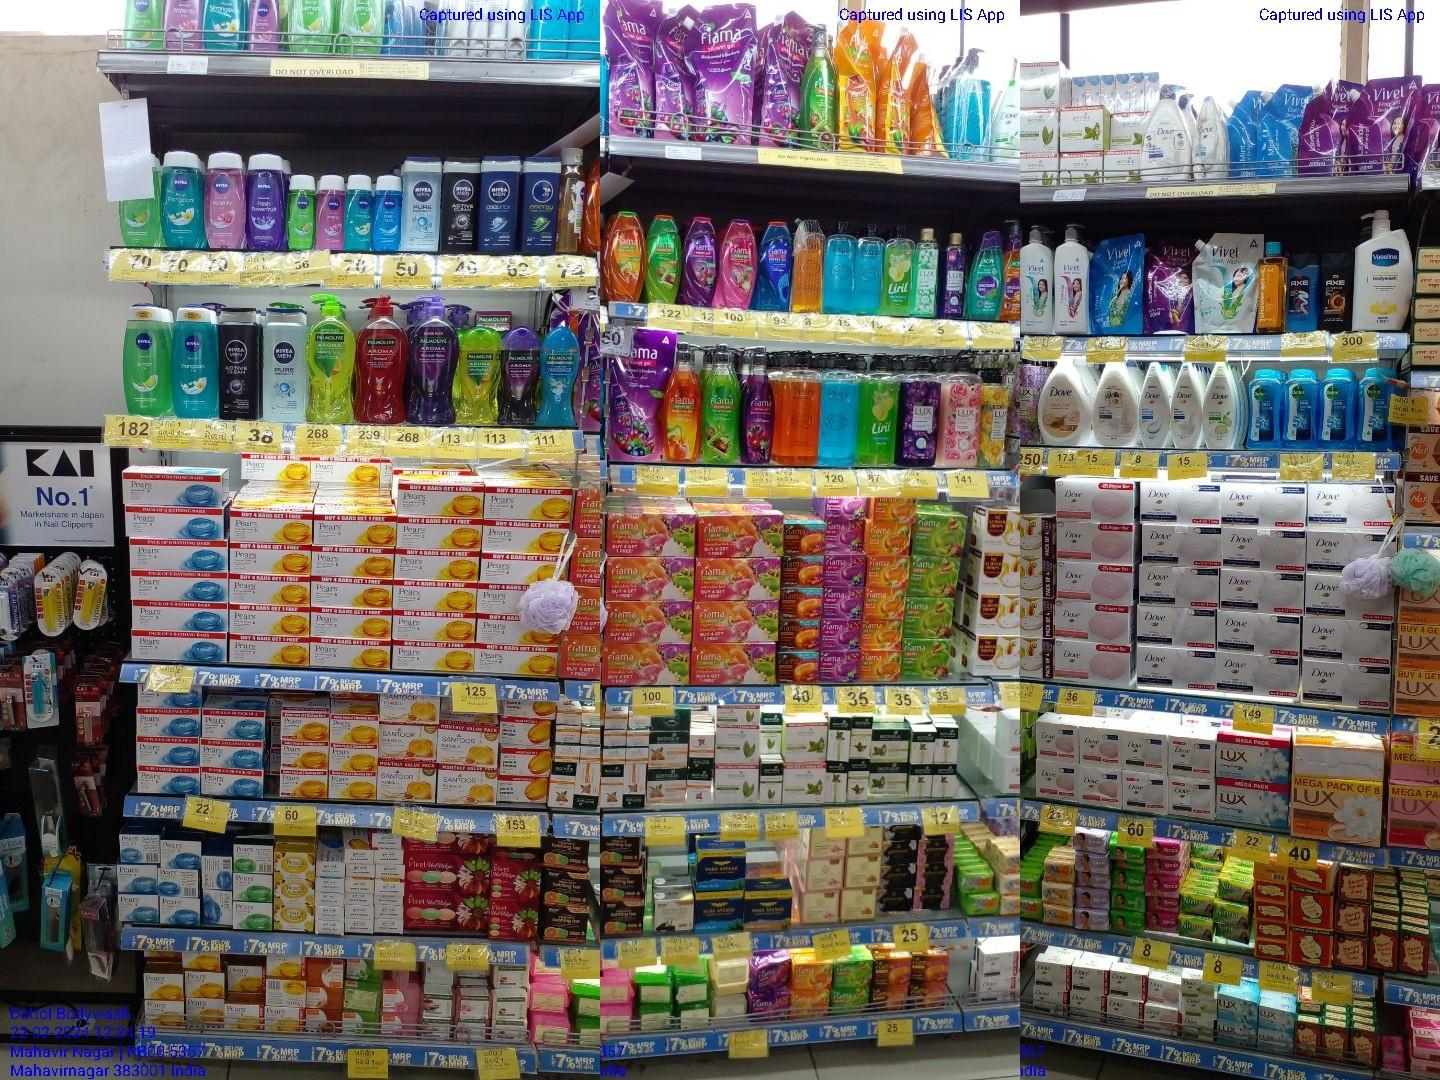Dettol_Bodywash_Cool: (1356, 368, 1392, 449), (1246, 369, 1282, 449), (1319, 368, 1353, 450), (1285, 368, 1318, 450)
Dove_Deep_Moisture_Body_Wash_250ML: (1171, 362, 1201, 449)
Dove_Gentle_Exfoliating_Body_Wash_250ML: (1140, 362, 1170, 447)
Dove_Refreshing_Body_Wash_250ML: (1204, 363, 1235, 448)
Fiama_Shower_Gel_Lemongrass_and_Jojoba_250ML: (646, 212, 680, 305)
Fiama_Shower_Gel_Patchouli_and_Macadamia_250ML: (720, 220, 756, 309)
Fiama_Shower_Gel_Peach_and_Avocado_250ML: (603, 212, 645, 301)
Joy_Shower_Gel_Mint_and_Eucalyptus_250ML: (968, 230, 1001, 319)
Liril_Lime_and_Tea_Tree_Oil_Body_Wash_250ML: (882, 222, 909, 317)
Lux_Black_Orchid_Scent_and_Juniper_Oil_Body_Wash_245ML: (939, 230, 964, 318)
Lux_Body_Wash_Skin_Detox_Freesia_Scent_and_Alove_Vera_245ML: (913, 227, 935, 318)
Nivea_Shower_Gel_Frangipani_and_Oil_250ML: (172, 305, 218, 421), (161, 150, 202, 248)
Nivea_Shower_Gel_Fresh_Powerfruit_250ML: (249, 153, 286, 252)
Nivea_Shower_Gel_Lemon_and_Oil_250ML: (122, 304, 170, 419)
Nivea_Shower_Gel_Waterlily_and_Oil_250ML: (206, 152, 246, 248)
Palmolive_Aroma_Moments_Feel_The_Massage_Shower_Gel_250ML: (539, 326, 577, 428)
Palmolive_Aroma_Morning_Tonic_Shower_Gel_250ML: (458, 327, 498, 424)
Palmolive_Aroma_Relax_250ML: (501, 327, 536, 425)
Pears_Pure_Glycerin_and_Mint_Extracts_Body_Wash_250ML: (824, 219, 853, 314), (854, 221, 879, 314)
